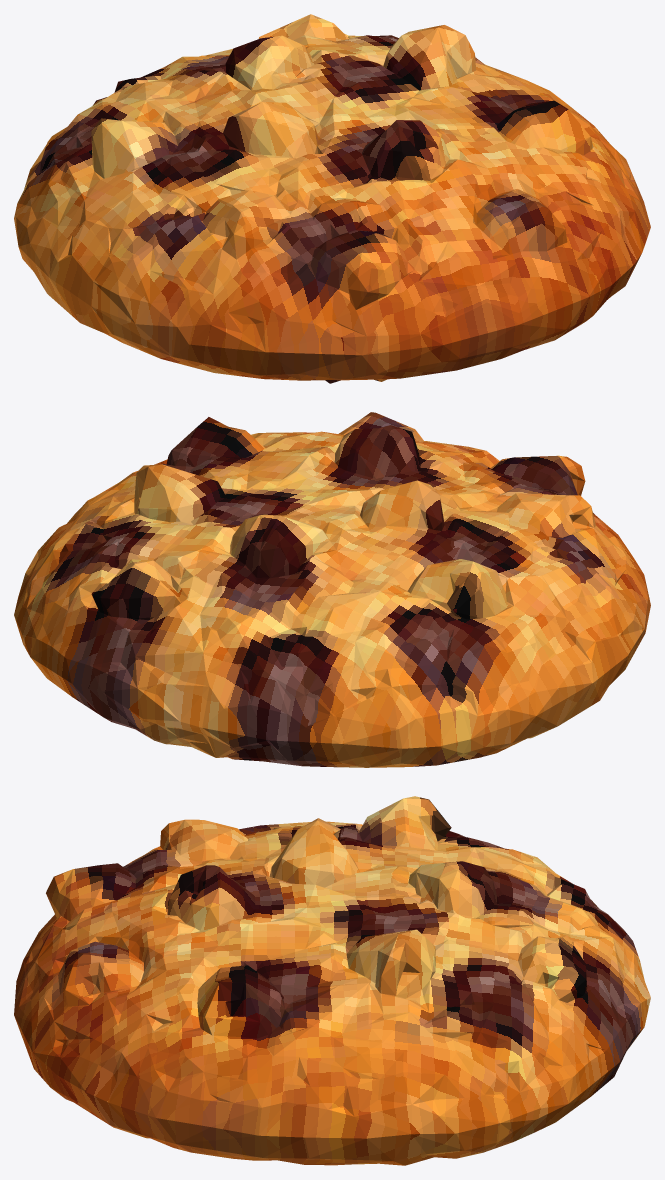
File: ChipsahoyChewy.fbx
3 views of the same model, one above another, from view 1: azimuth 30°, elevation 25°; view 2: azimuth 150°, elevation 25°; view 3: azimuth 270°, elevation 25° (orthographic).
Visible parts, largest first — view 1: Mesh1.0; view 2: Mesh1.0; view 3: Mesh1.0.
Boxes of the visible parts, x1,y1,x2,y2 form: Mesh1.0: (14,14,650,383); Mesh1.0: (14,412,650,767); Mesh1.0: (14,796,650,1165).
Size of the model in its own units: 190 by 68.62 by 191.
Materials: 1 (1 with a texture image).
